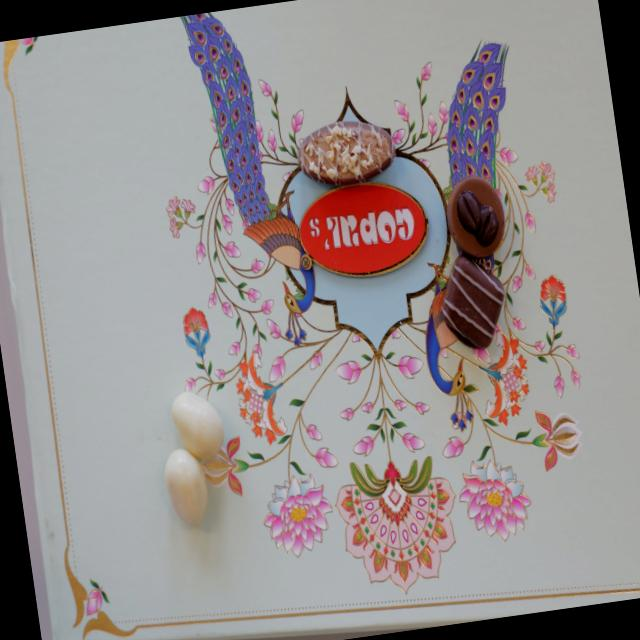Amandina: (293, 116, 397, 192)
Arabia: (444, 174, 508, 258)
Jelly_White: (167, 387, 226, 461), (161, 446, 211, 528)
Stracciatella: (435, 250, 511, 353)
